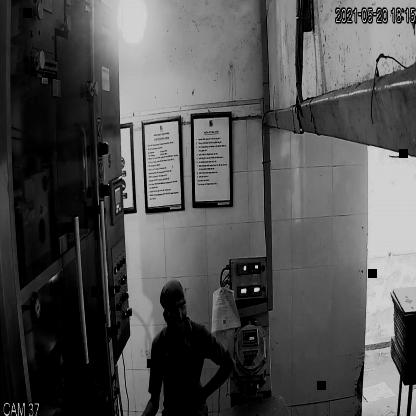goggles: (157, 297, 192, 324)
